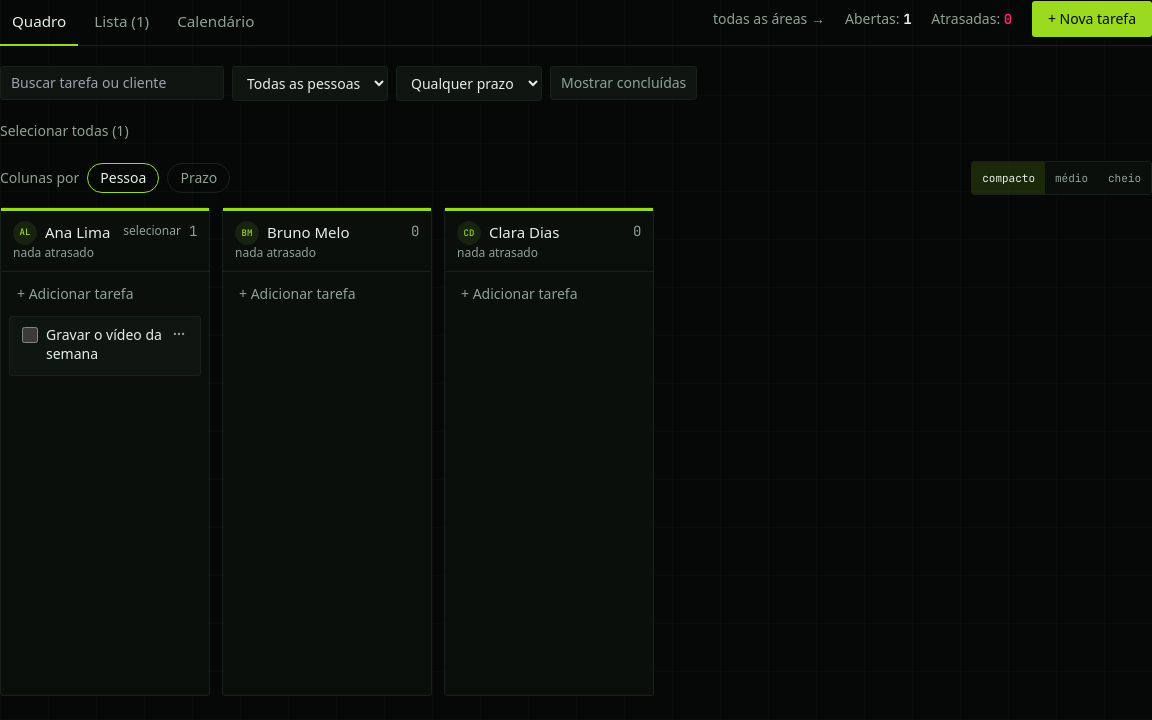
Test case: TarefasDoDia no padrão do Trabalho › o clique no cartão abre o pop-up único da tarefa, com ?tarefa= no endereço
Click the text "Gravar o vídeo da semana": (104, 344) top-left (46, 325), bottom-right (162, 363)
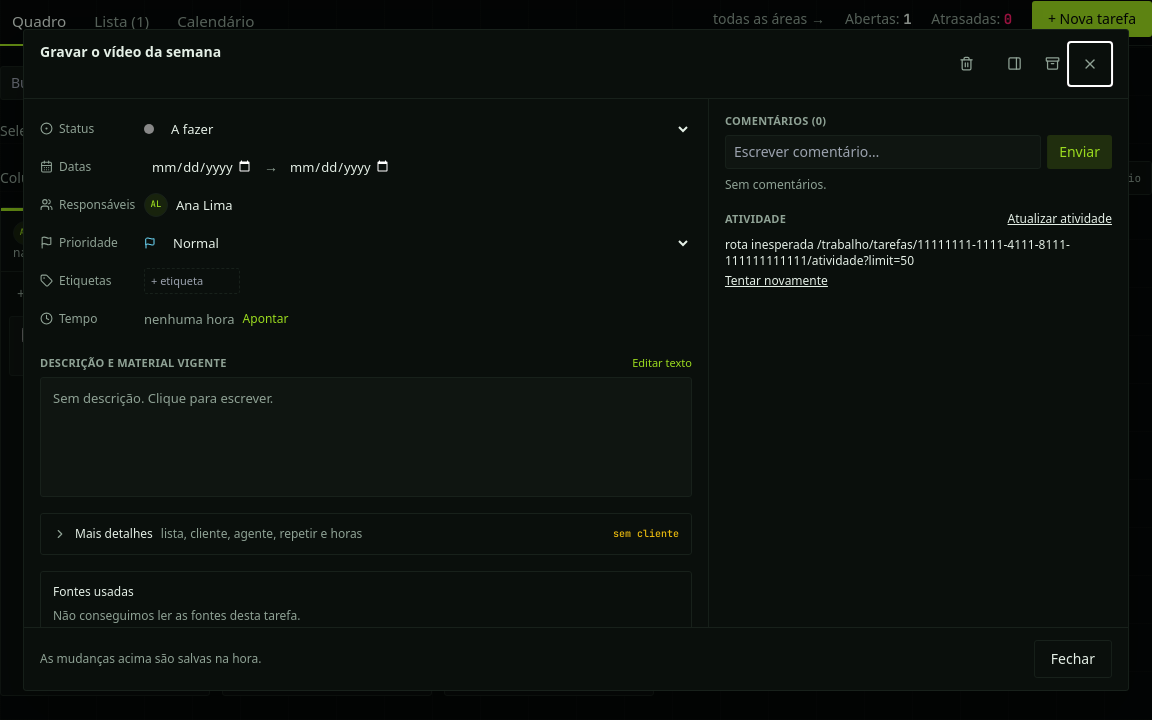
Check: the dialog with test id "tarefa-popup" is shown
